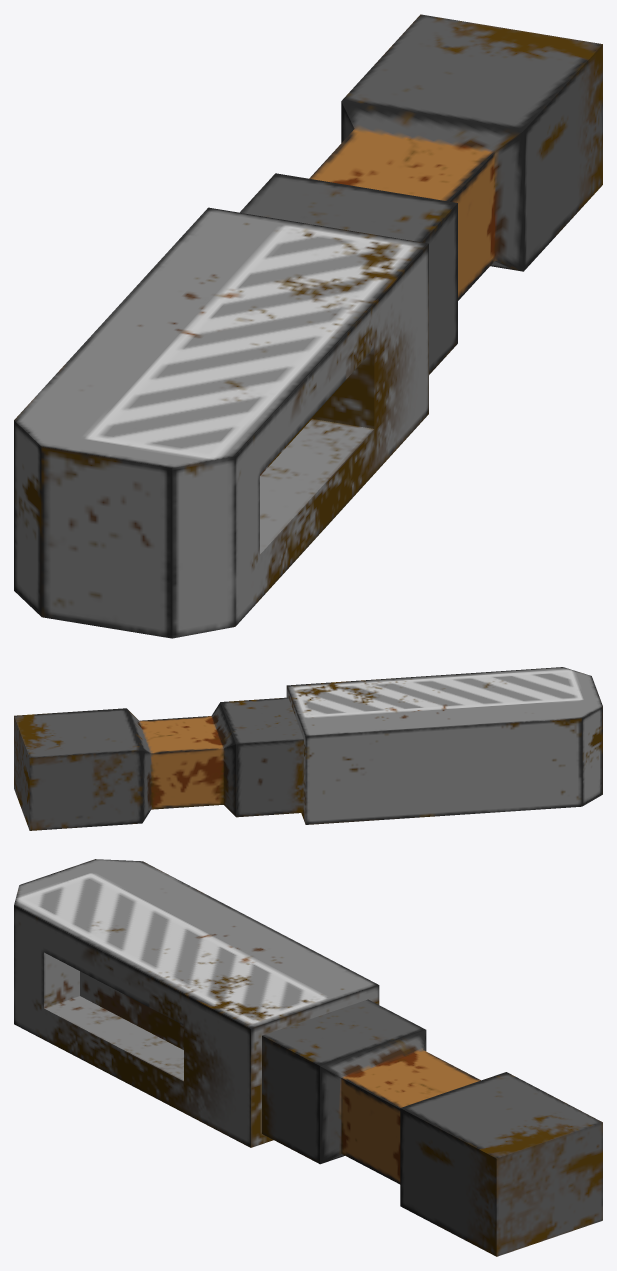
Rendered from SM_Mech_MetaL.obj.
3 views of the same model, one above another, from view 1: azimuth 30°, elevation 25°; view 2: azimuth 150°, elevation 25°; view 3: azimuth 270°, elevation 25° (orthographic). The views are drawn at different scales.
Parts seen in each view (by area): view 1: SM_Mech_MetaL; view 2: SM_Mech_MetaL; view 3: SM_Mech_MetaL.
Boxes of the visible parts, left/top/right/bottom form: SM_Mech_MetaL: left=14, top=14, right=602, bottom=638; SM_Mech_MetaL: left=14, top=667, right=602, bottom=830; SM_Mech_MetaL: left=14, top=859, right=602, bottom=1256.
Bounding box in the file's own units: 177 × 33.99 × 152.
1 material, 1 textured.
